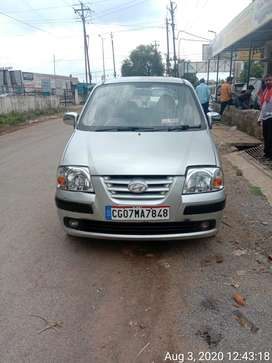CG07MA7848: (106, 205, 170, 220)
